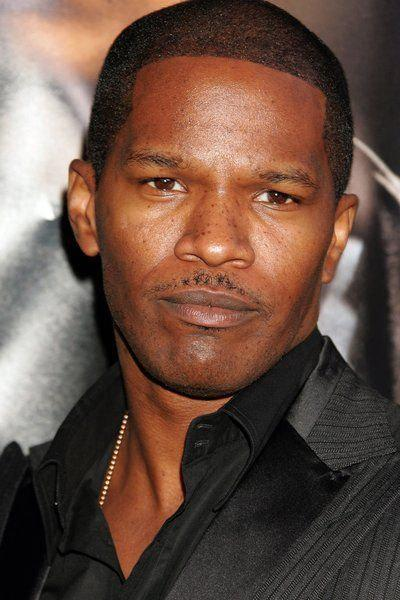Sober: (103, 53, 327, 380)
